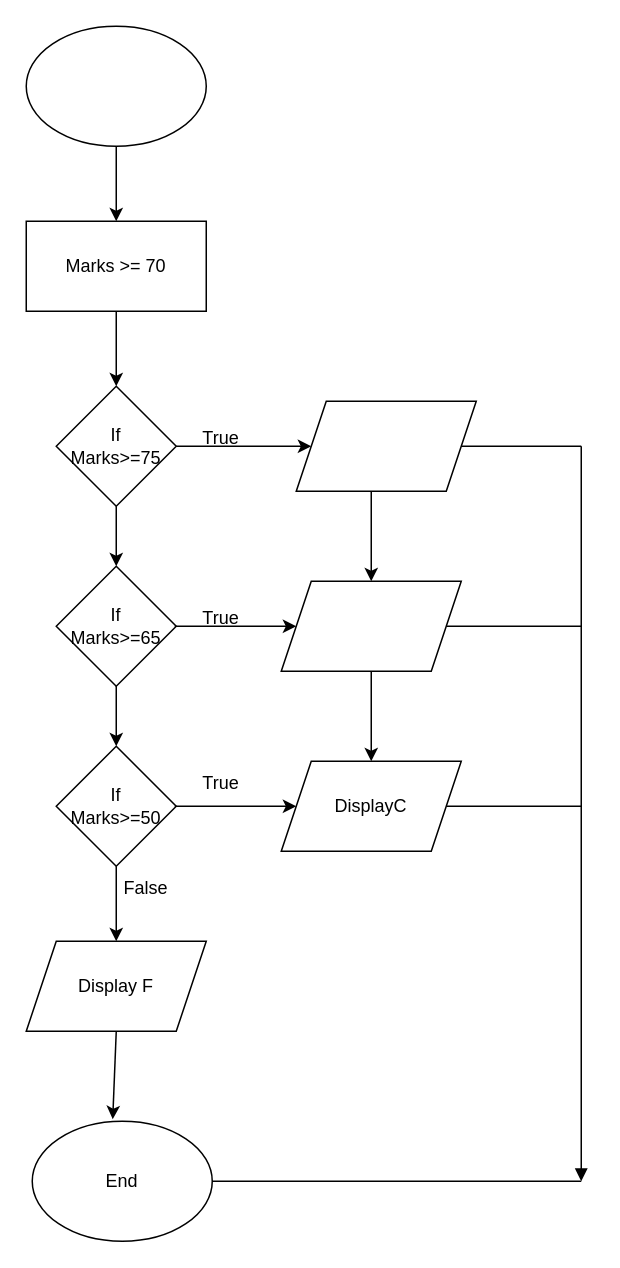
Image size: 620x1268. Some labels were removed from this diagram. The shapes that lost their labels are listed below. From the top down, each one's centre as x and y in pixels, then its label:
At point (115, 85): "Start".
At point (385, 445): "DisplayA".
At point (370, 625): "DisplayB".
